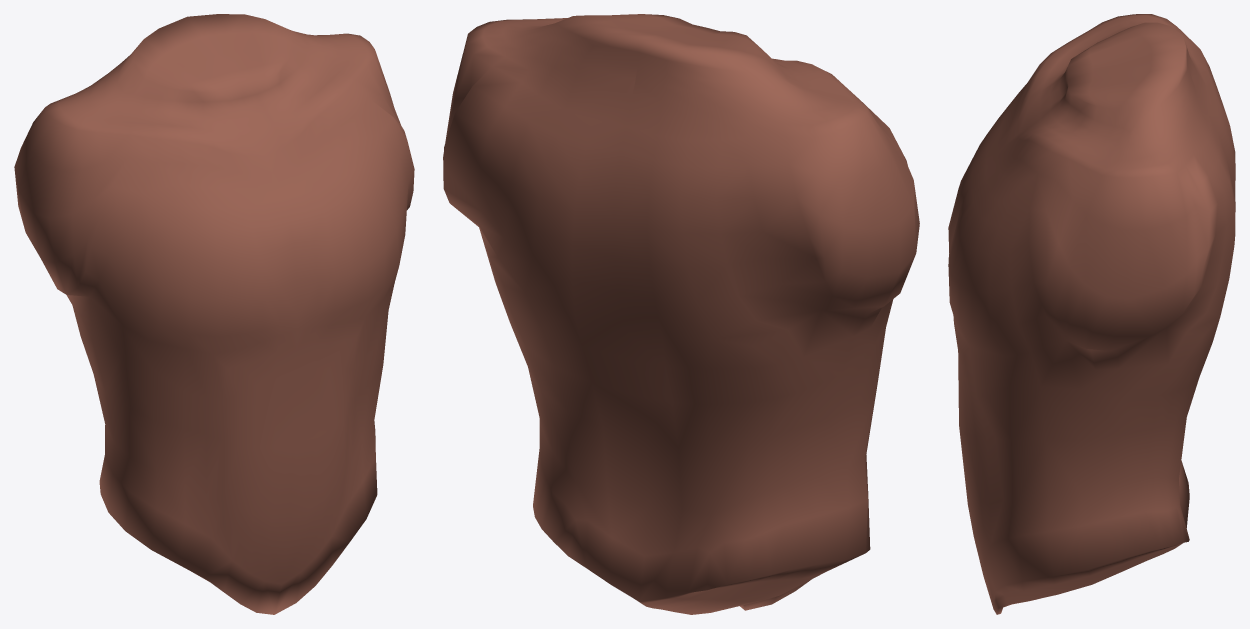
File: Torso.fbx
The picture shows the model from 3 angles, left to right: view 1: azimuth 30°, elevation 25°; view 2: azimuth 150°, elevation 25°; view 3: azimuth 270°, elevation 25°; orthographic projection. The views are drawn at different scales.
Parts seen in each view (by area): view 1: Torso; view 2: Torso; view 3: Torso.
Part boxes in pixels (x1,y1,x2,y2): Torso: (14,14,414,614); Torso: (443,14,919,614); Torso: (948,14,1235,614).
Bounding box in the file's own units: 164 × 233 × 107.
